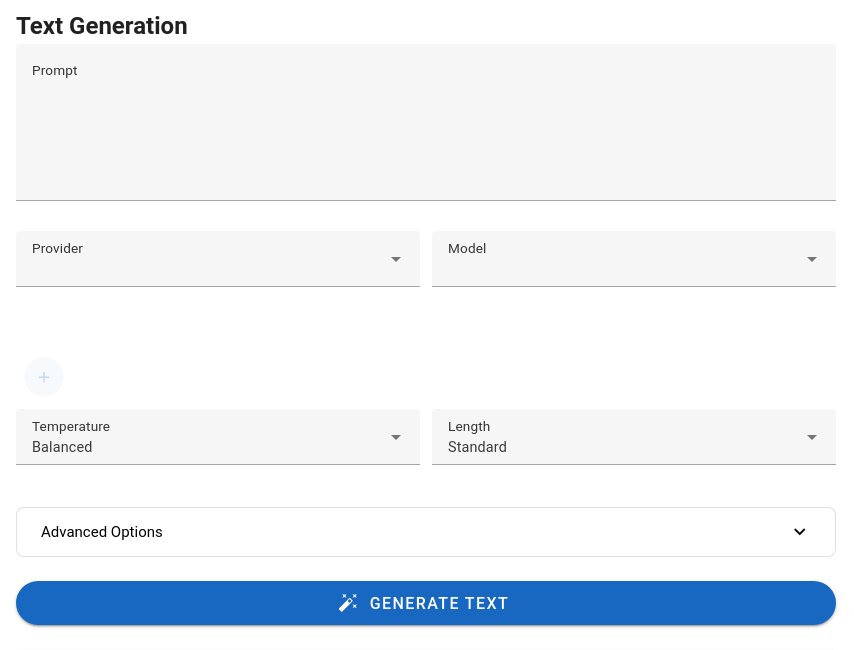
Scenario: TextPanel › shows error status on failure
This screenshot has width=854, height=650.
Click the button "Generate Text".
click(426, 604)  # box [16, 582, 836, 626]
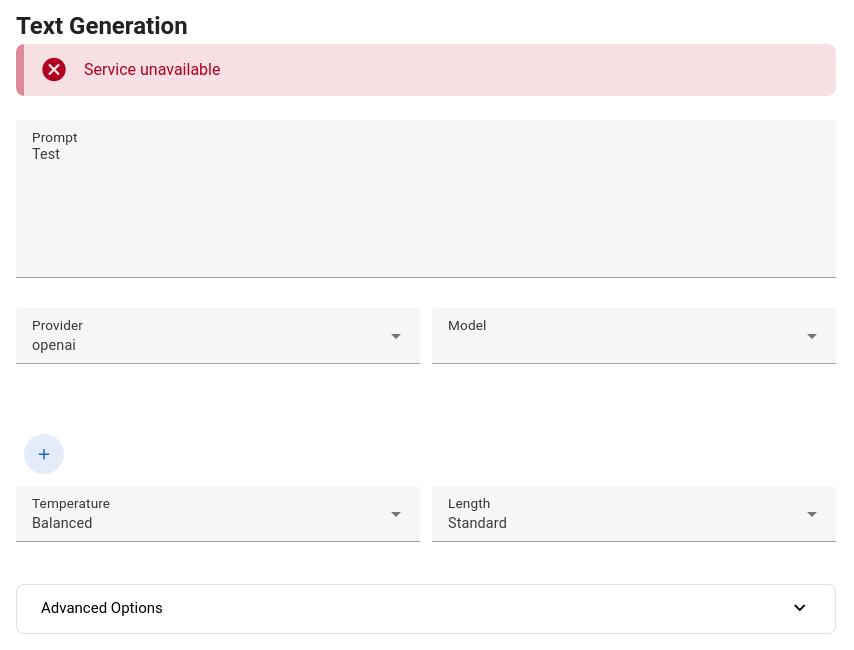
Expected: the text "Service unavailable" is shown, [84, 60, 220, 79]
